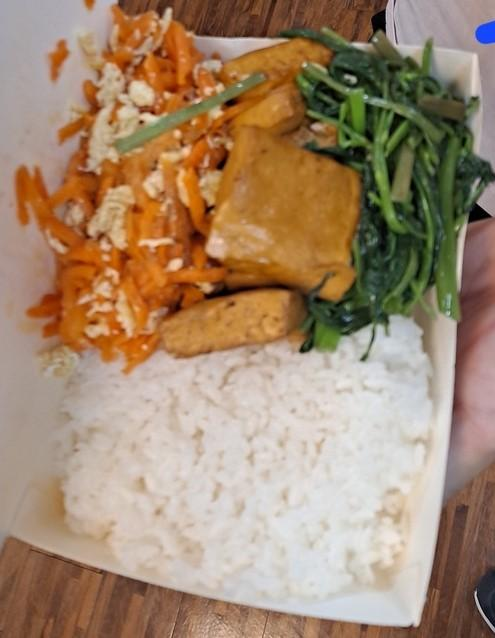big grilled chicken leg: (23, 9, 479, 636)
big herbal chicken leg: (45, 317, 439, 596)
braised fish fillet: (39, 14, 222, 361), (167, 35, 357, 354), (310, 30, 476, 350)
